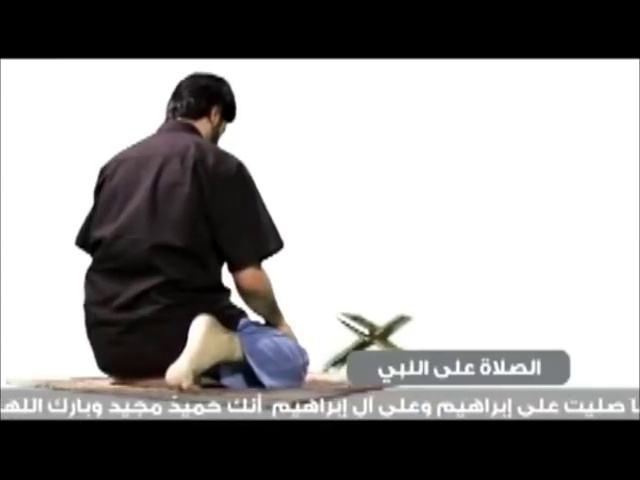sitting: (68, 68, 315, 395)
